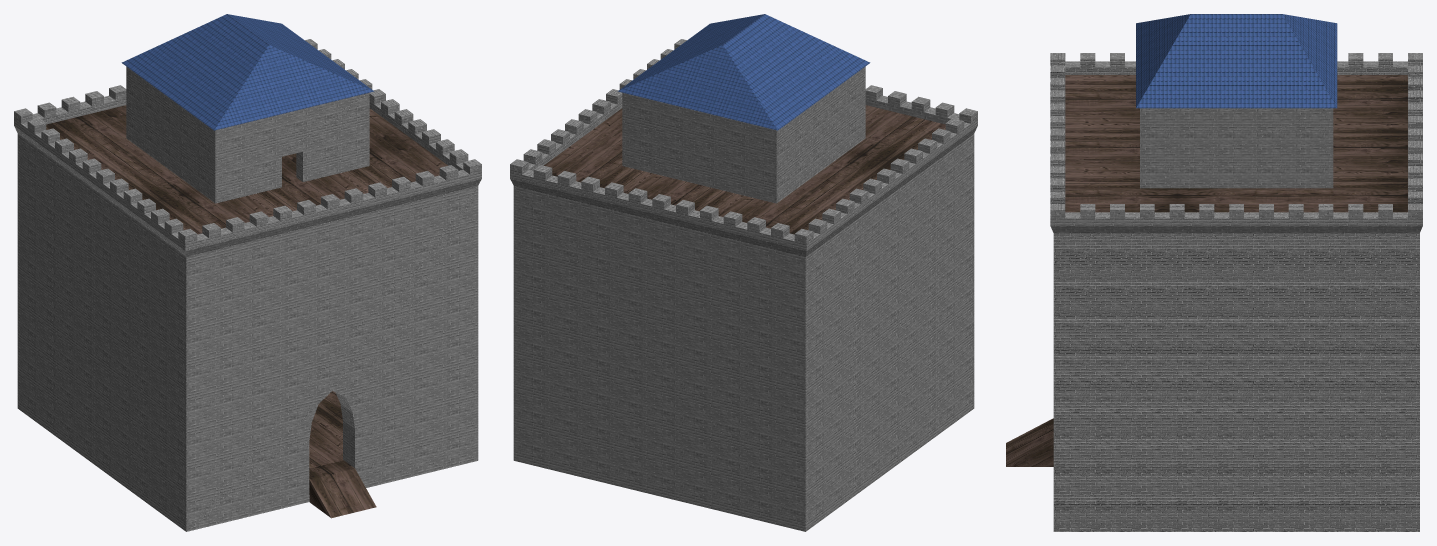
Rendered from HeadQuarters.fbx.
3 views of the same model, side by side, from view 1: azimuth 30°, elevation 25°; view 2: azimuth 150°, elevation 25°; view 3: azimuth 270°, elevation 25° (orthographic). The views are drawn at different scales.
Parts seen in each view (by area): view 1: HeadQuaters V1; view 2: HeadQuaters V1; view 3: HeadQuaters V1.
Part boxes in pixels (x1=…): HeadQuaters V1: x1=14, y1=14, x2=481, y2=531; HeadQuaters V1: x1=510, y1=14, x2=977, y2=531; HeadQuaters V1: x1=1006, y1=14, x2=1422, y2=531.
Size of the model in its own units: 2033 by 2657 by 2275.
